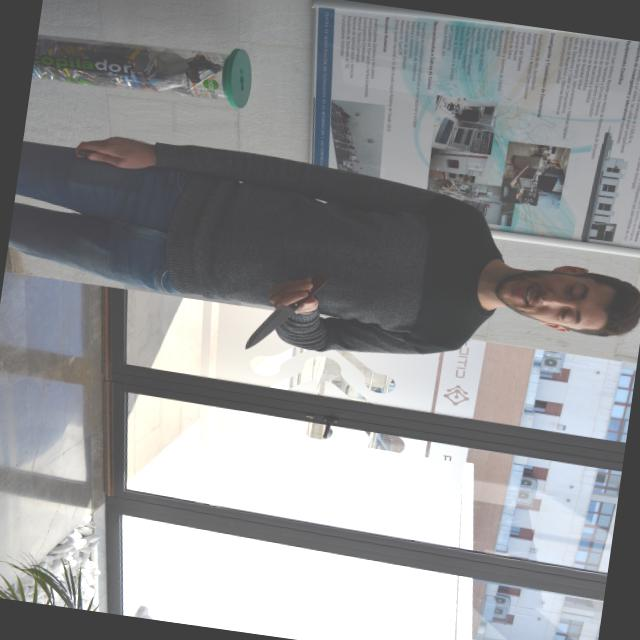knife: (240, 264, 332, 364)
